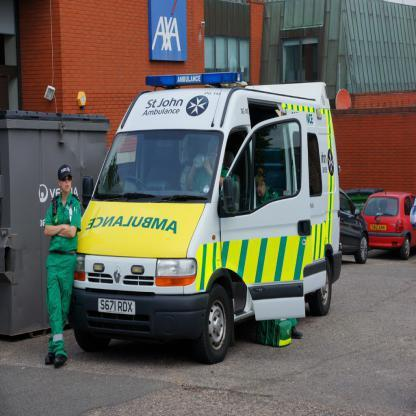Ambulance - v1 Ambulance last generate: (68, 52, 344, 366)
